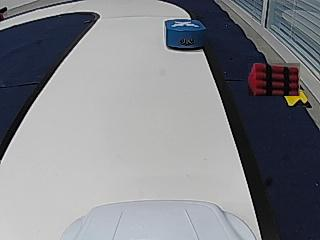prop: (165, 19, 205, 51)
